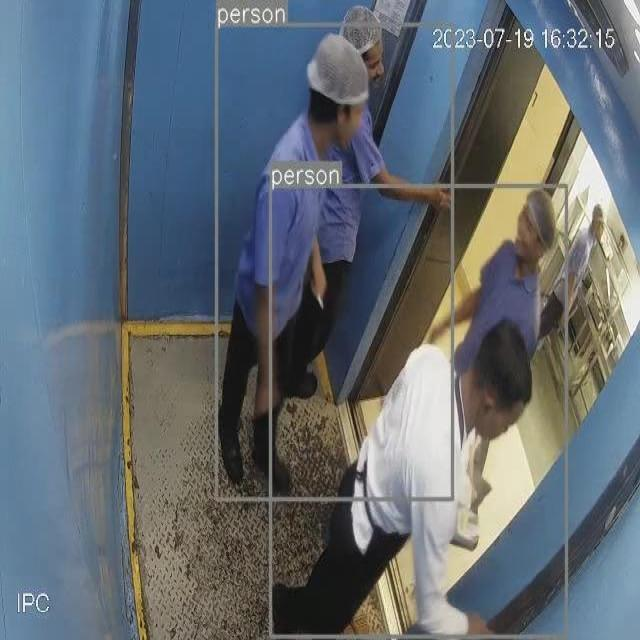person: (270, 185, 564, 640), (217, 25, 454, 500), (269, 318, 511, 638), (225, 46, 333, 490), (559, 198, 609, 334)
